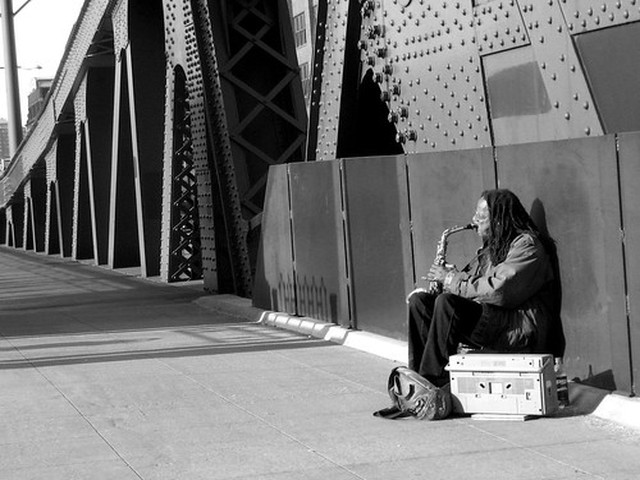Person: (390, 186, 579, 360)
